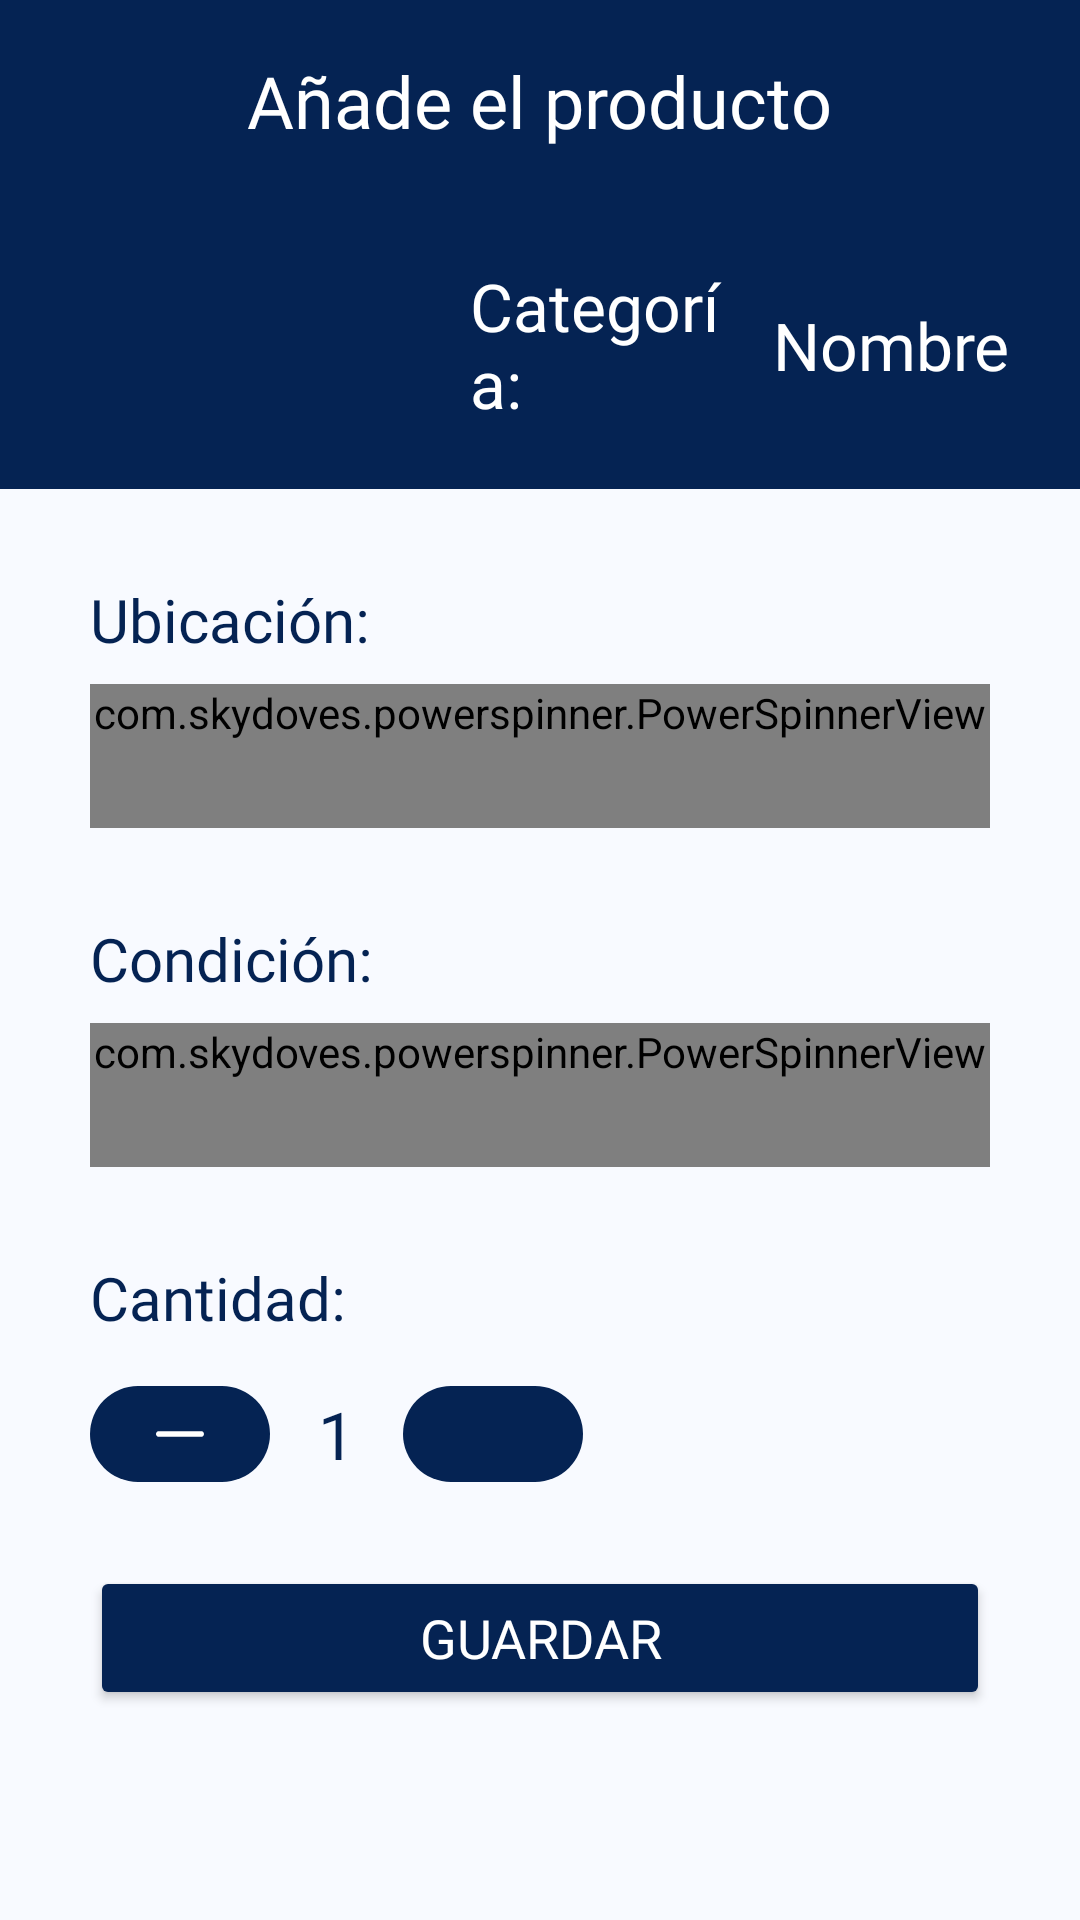

Where to tap for icons on this 1080px x 1920px app screen, as point (x, y):
boton de decrementar: point (180, 1434)
